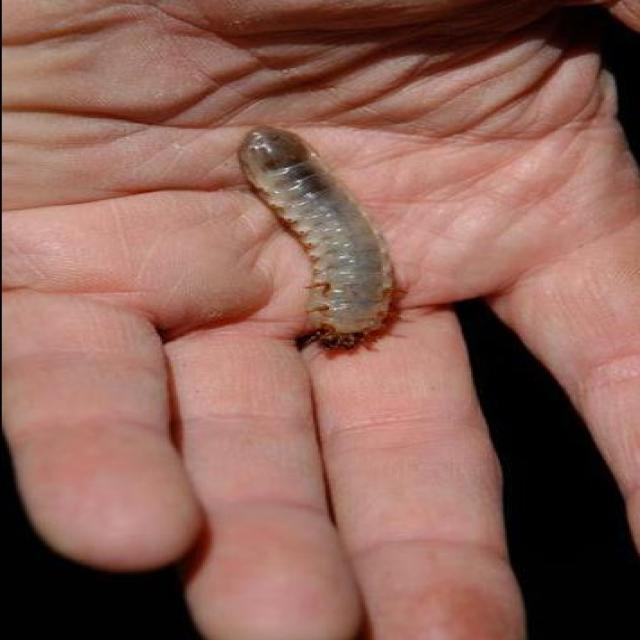grub: (235, 129, 404, 364)
